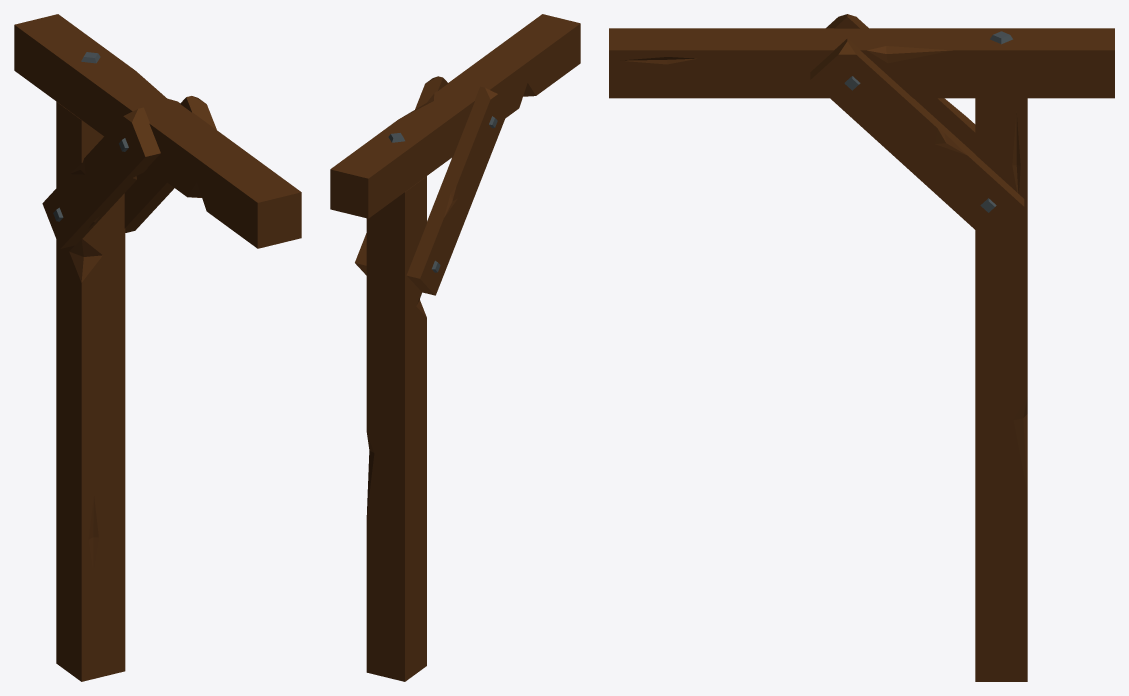
File: pole_2.fbx
3 renders of one model, left to right at view 1: azimuth 30°, elevation 25°; view 2: azimuth 150°, elevation 25°; view 3: azimuth 270°, elevation 25°, orthographic. The views are drawn at different scales.
Parts seen in each view (by area): view 1: pole_2; view 2: pole_2; view 3: pole_2.
Part boxes in pixels (bbox=[...]): pole_2: bbox=[14, 14, 301, 681]; pole_2: bbox=[330, 14, 580, 681]; pole_2: bbox=[609, 14, 1114, 681].
Size of the model in its own units: 0.5021 by 3.64 by 2.6.
